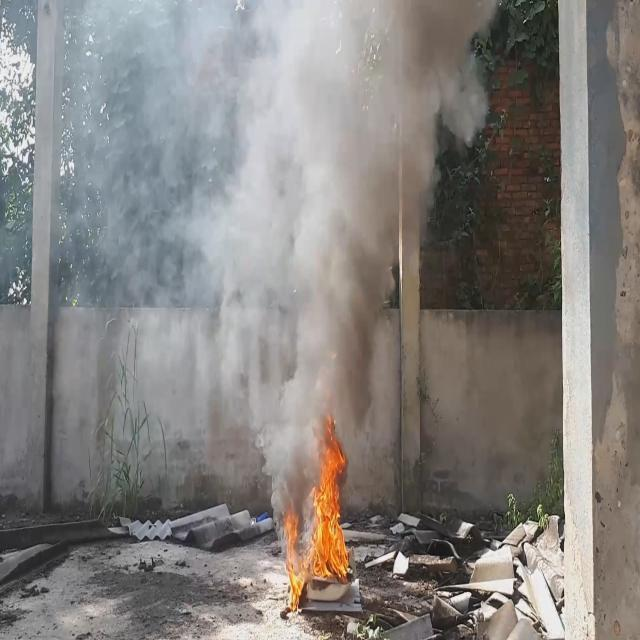Fire: (278, 421, 354, 613)
Smoke: (44, 0, 501, 511)
